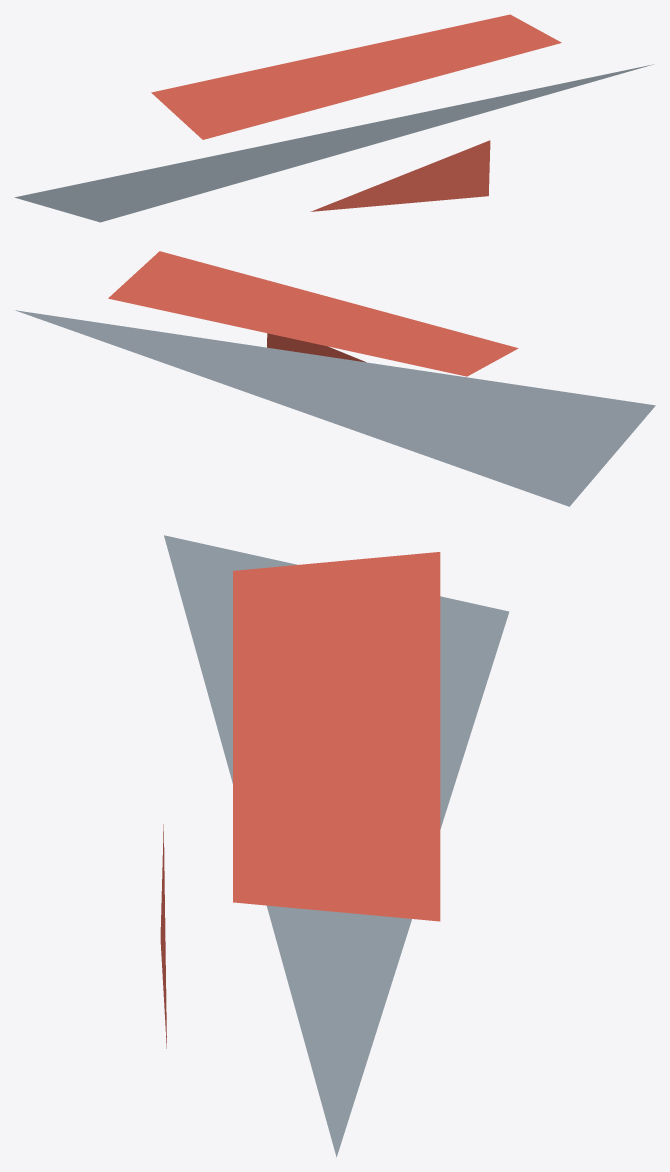
Rendered from SU_MorokSubmarine_LOD2.glb.
The picture shows the model from 3 angles, top to bottom: view 1: azimuth 30°, elevation 25°; view 2: azimuth 150°, elevation 25°; view 3: azimuth 270°, elevation 25°; orthographic projection. The views are drawn at different scales.
Visible parts, largest first — view 1: EntranceGate; view 2: EntranceGate; view 3: EntranceGate.
Boxes of the visible parts, x1,y1,x2,y2 form: EntranceGate: [14, 14, 653, 222]; EntranceGate: [15, 251, 655, 506]; EntranceGate: [160, 535, 509, 1157].
Size of the model in its own units: 1400 by 267 by 353.
